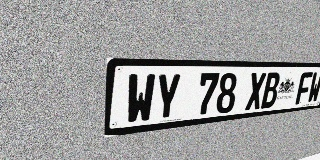7: (195, 73, 220, 116)
8: (215, 73, 239, 114)
B: (261, 72, 281, 109)
F: (295, 72, 313, 105)
W: (125, 74, 156, 125), (307, 72, 320, 103)
X: (245, 73, 266, 111)
Y: (153, 73, 182, 121)
